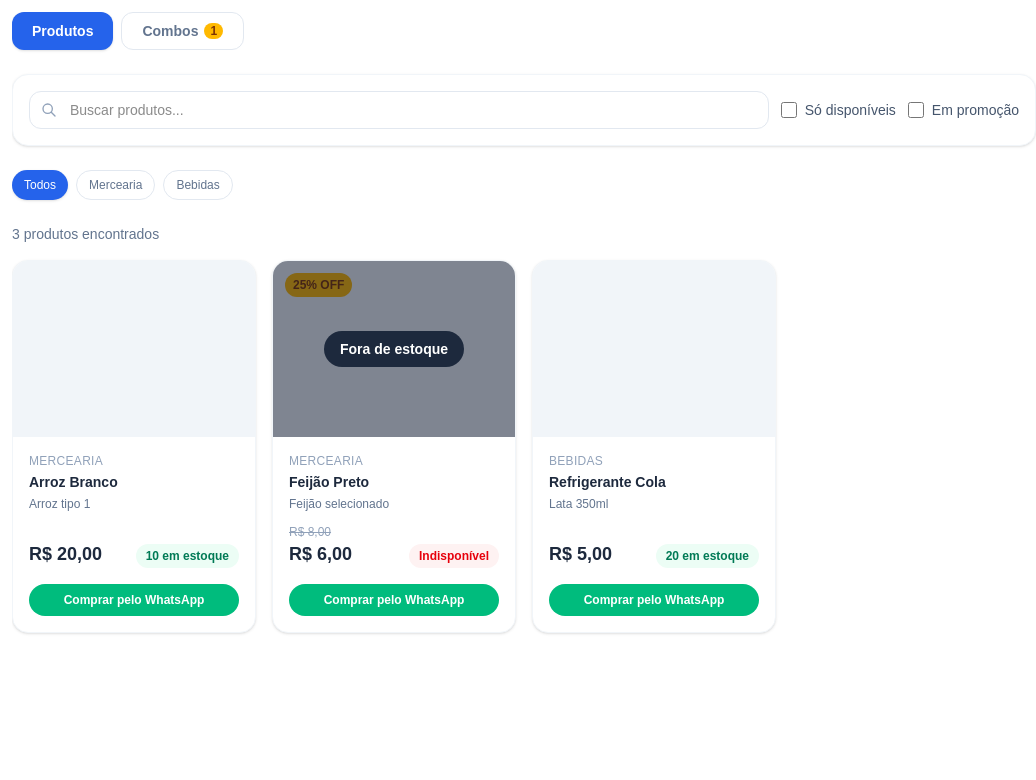
Test case: CatalogoClient › exibe botões "Comprar pelo WhatsApp" nos produtos e combos quando a empresa tem telefone
Expected: the number of links "Comprar pelo WhatsApp" is 3, x1=29 y1=584 x2=239 y2=616; x1=289 y1=584 x2=499 y2=616; x1=549 y1=584 x2=759 y2=616
Click the button "Combos 1".
click(183, 31)  # box x1=122 y1=12 x2=244 y2=50
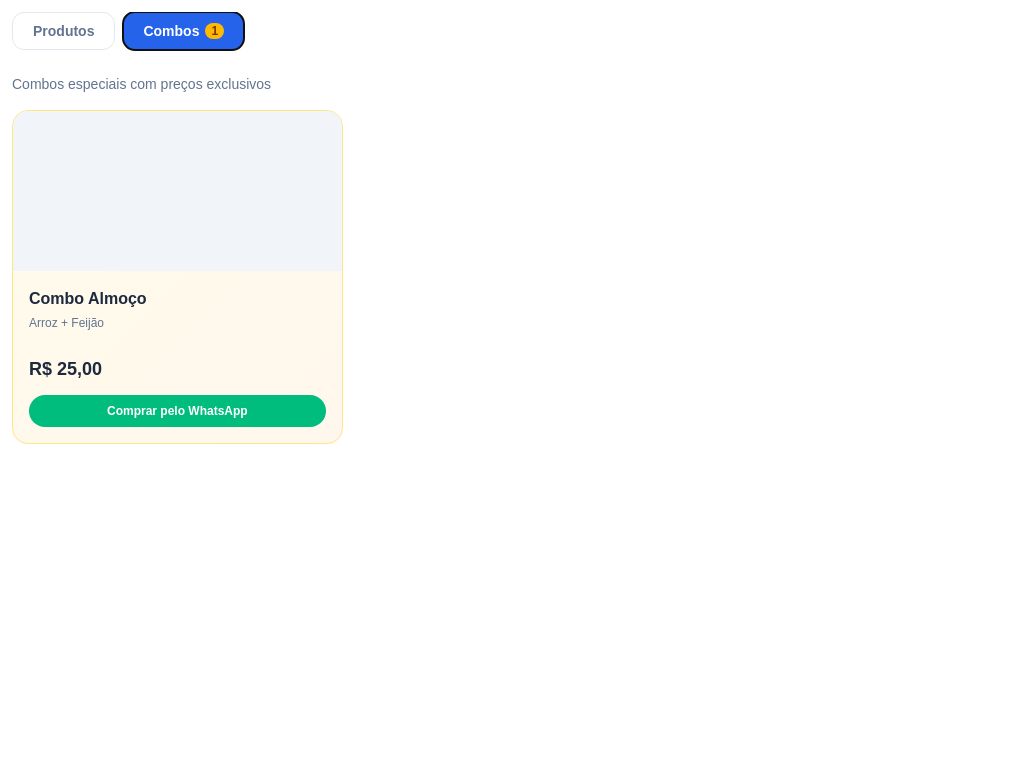
Now the number of links "Comprar pelo WhatsApp" is 1, box x1=29 y1=395 x2=326 y2=427
